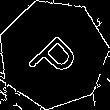P_NE: (22, 23, 84, 84)
